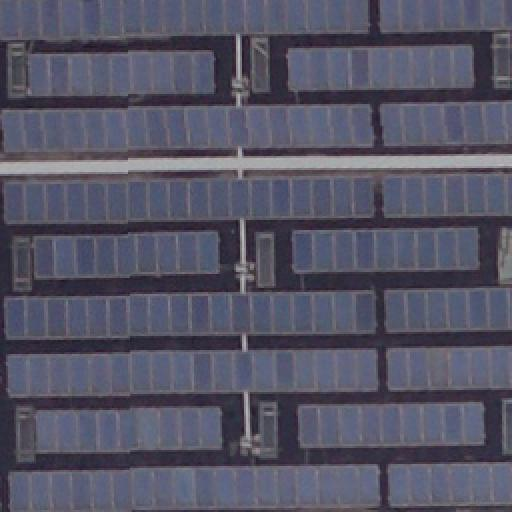solar-panel: (6, 347, 378, 397), (1, 176, 375, 224), (1, 104, 375, 152), (8, 465, 380, 511), (4, 293, 376, 339), (0, 0, 368, 40), (31, 231, 217, 281), (286, 44, 474, 92), (25, 49, 215, 95), (292, 229, 480, 275), (35, 405, 221, 451), (299, 401, 485, 447), (385, 460, 511, 508), (384, 285, 512, 331), (380, 102, 512, 146), (384, 172, 512, 216), (385, 346, 511, 390), (377, 0, 511, 32)
